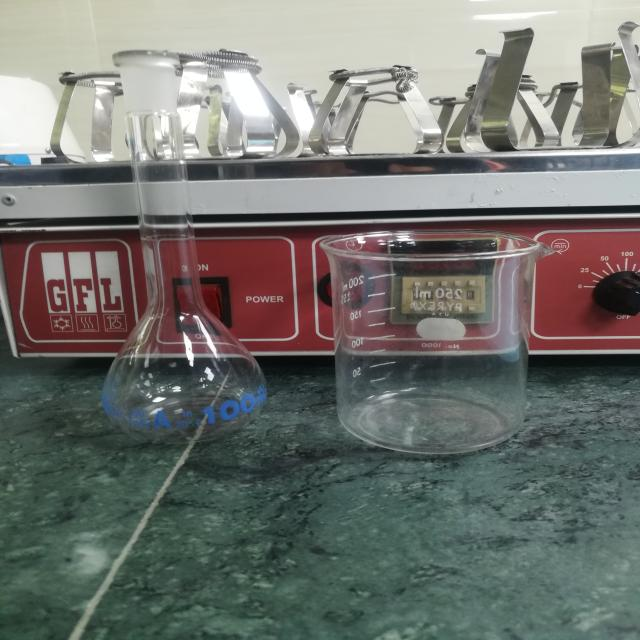Beaker: (304, 212, 590, 464)
Volumetric_Flask: (41, 17, 291, 450)
